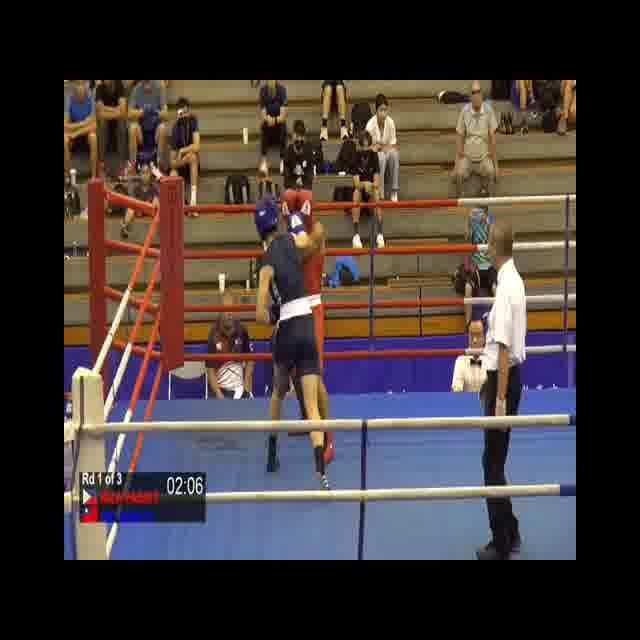blue-player: (250, 196, 330, 475)
red-player: (279, 187, 337, 468)
referee: (473, 222, 526, 561)
